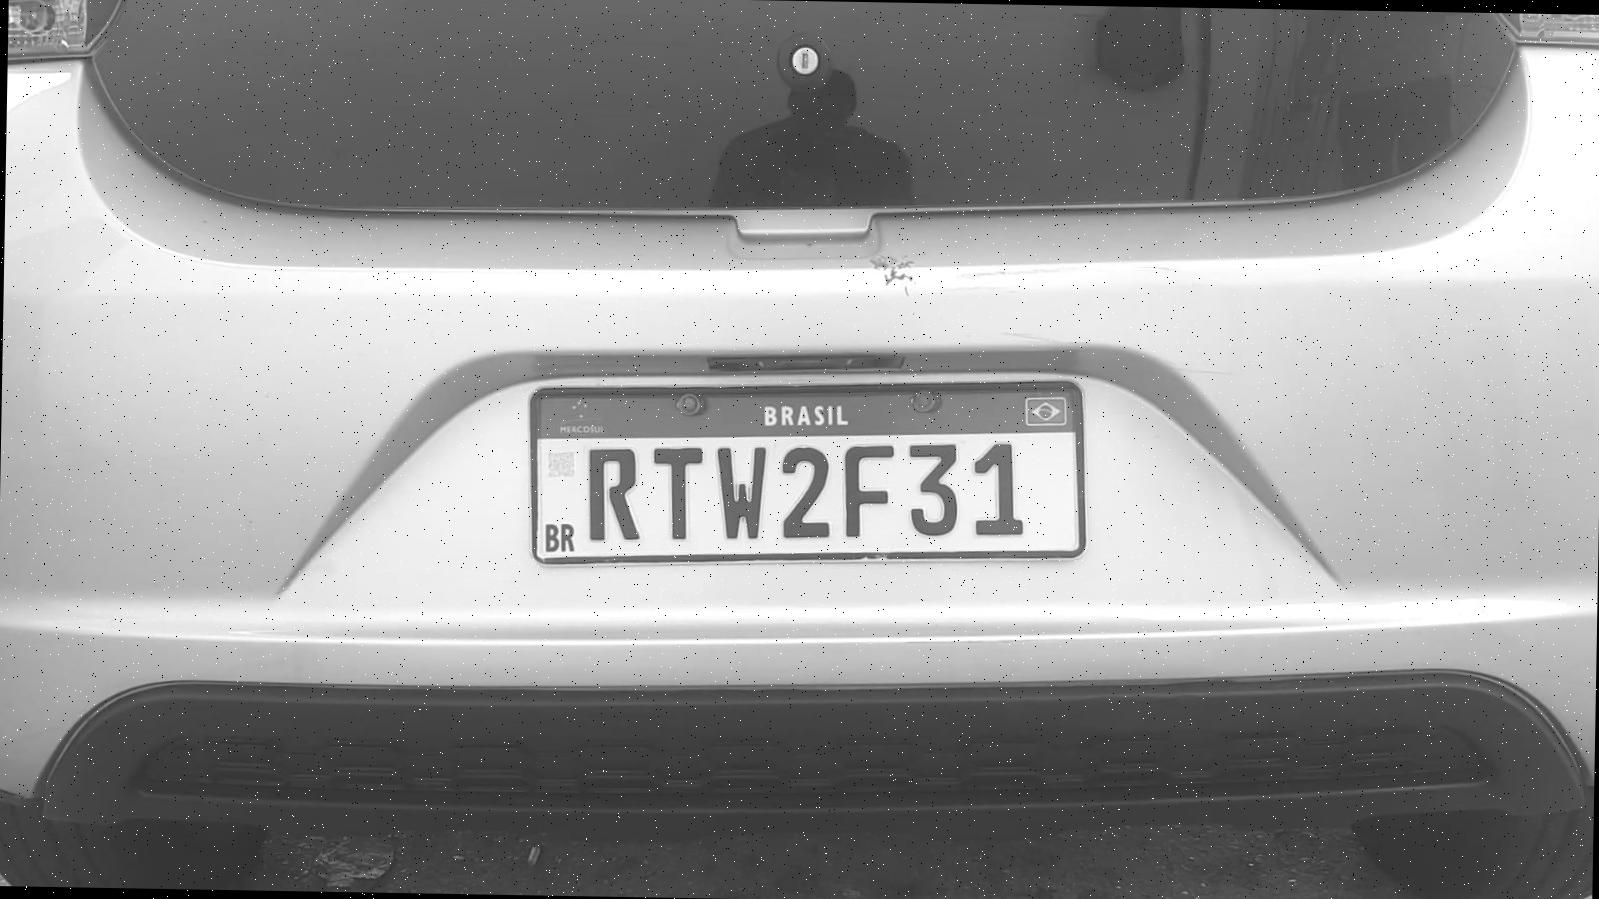placa_mercosul: (533, 379, 1079, 560)
